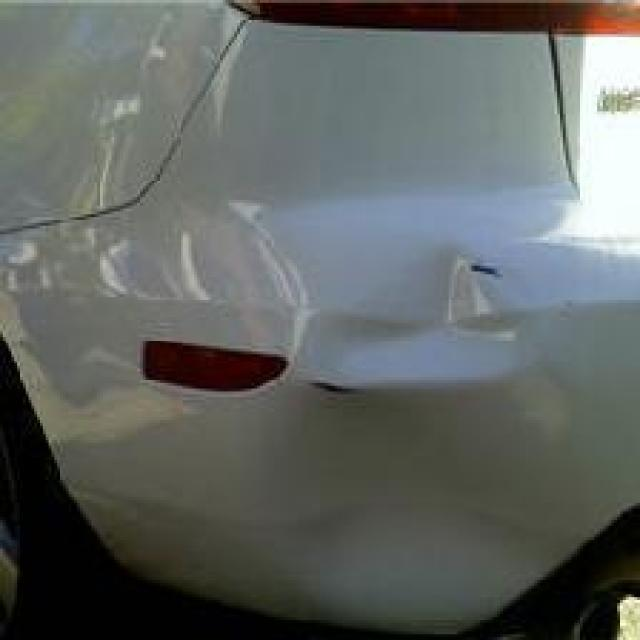damaged: (0, 194, 563, 629)
